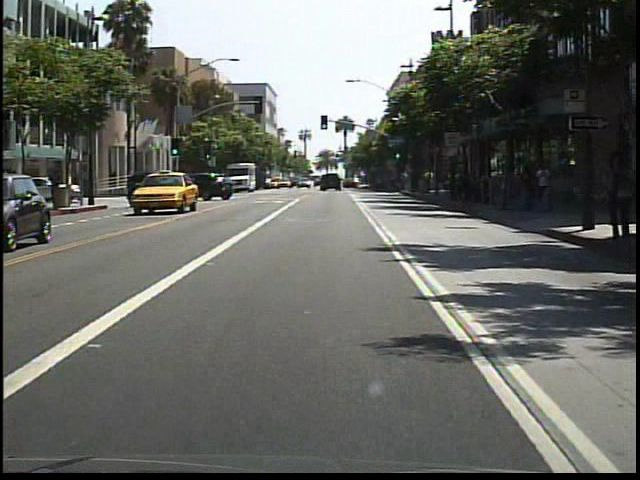person: (532, 160, 555, 218)
